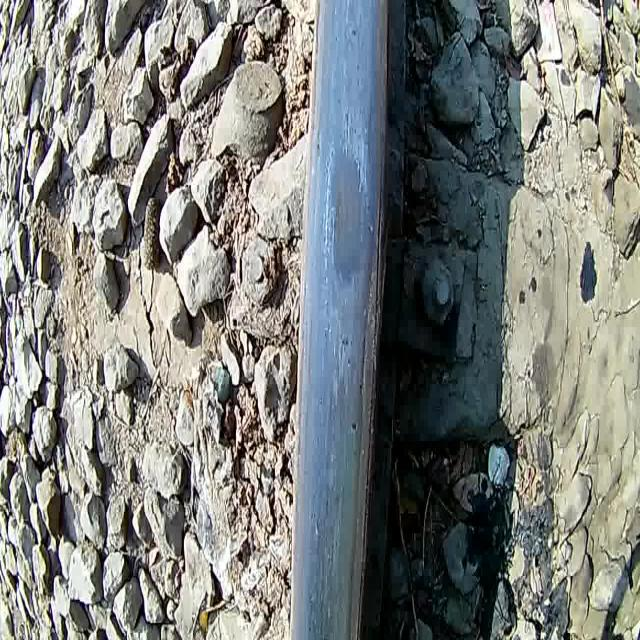Squats: (270, 0, 410, 640)
